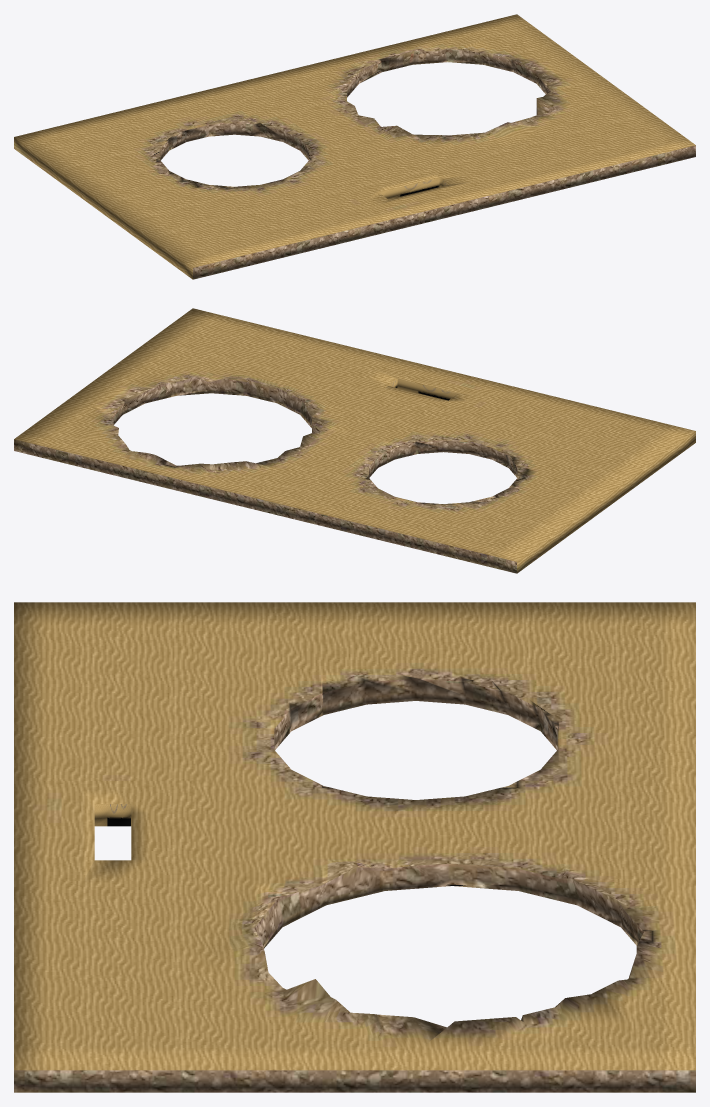
Rendered from lid2.obj.
The picture shows the model from 3 angles, top to bottom: view 1: azimuth 30°, elevation 25°; view 2: azimuth 150°, elevation 25°; view 3: azimuth 270°, elevation 25°; orthographic projection. The views are drawn at different scales.
Parts seen in each view (by area): view 1: Box005; view 2: Box005; view 3: Box005.
Boxes of the visible parts, x1,y1,x2,y2 form: Box005: [14, 14, 695, 279]; Box005: [14, 308, 695, 573]; Box005: [14, 602, 695, 1092].
Size of the model in its own units: 49.31 by 1.92 by 30.37.
Materials: 1 (1 with a texture image).
